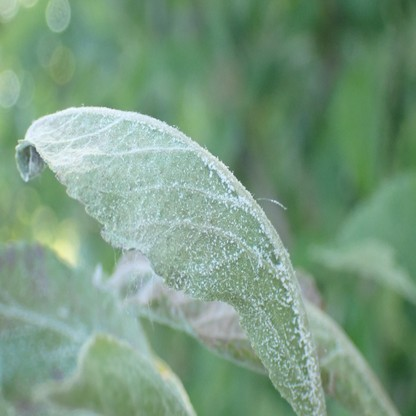powdery_mildew: (15, 104, 329, 414), (2, 243, 196, 416)
